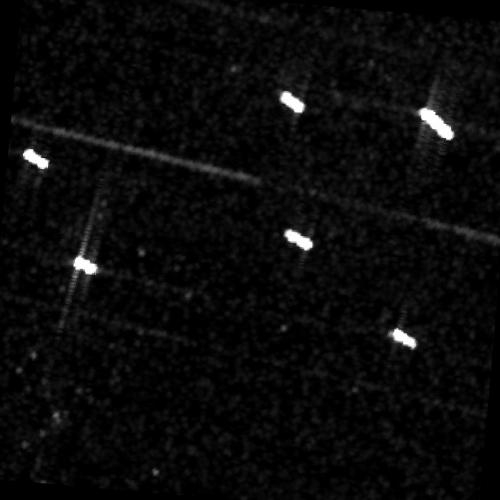ship: (419, 106, 455, 140), (283, 227, 313, 250), (279, 89, 304, 115), (391, 327, 417, 350), (23, 147, 48, 170), (73, 254, 98, 275)
